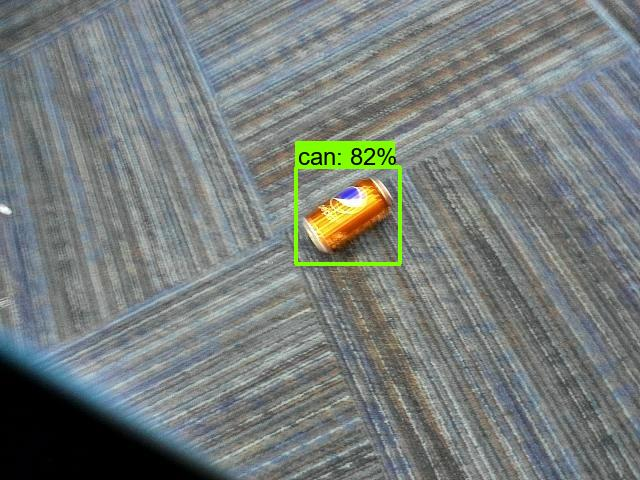can: (292, 174, 401, 256)
